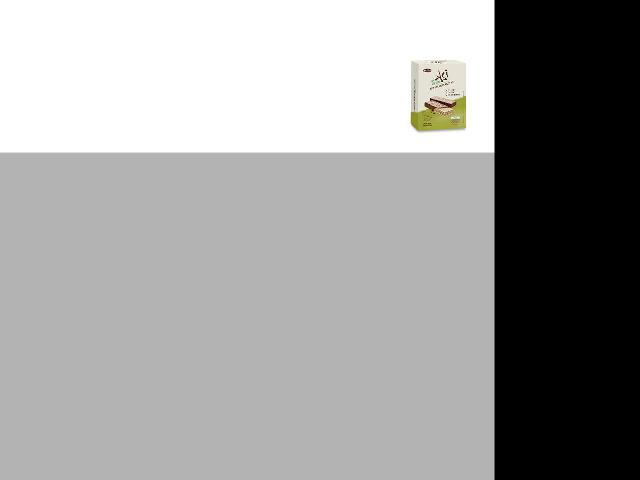chocolate: (406, 59, 467, 133)
